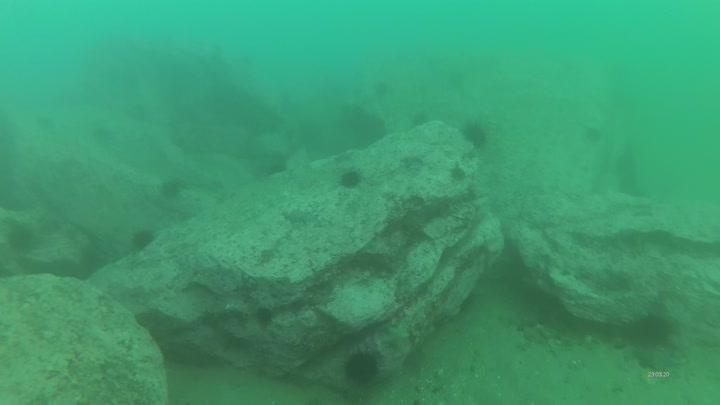echinus: (630, 310, 676, 349), (341, 347, 383, 387), (4, 221, 39, 255), (459, 118, 491, 150), (128, 226, 158, 253), (158, 175, 186, 202), (87, 120, 115, 147), (132, 95, 158, 123), (336, 166, 365, 191), (33, 108, 59, 134), (409, 104, 433, 129), (265, 157, 289, 181), (581, 123, 605, 146), (368, 74, 389, 97)
starfish: (397, 149, 428, 169)
